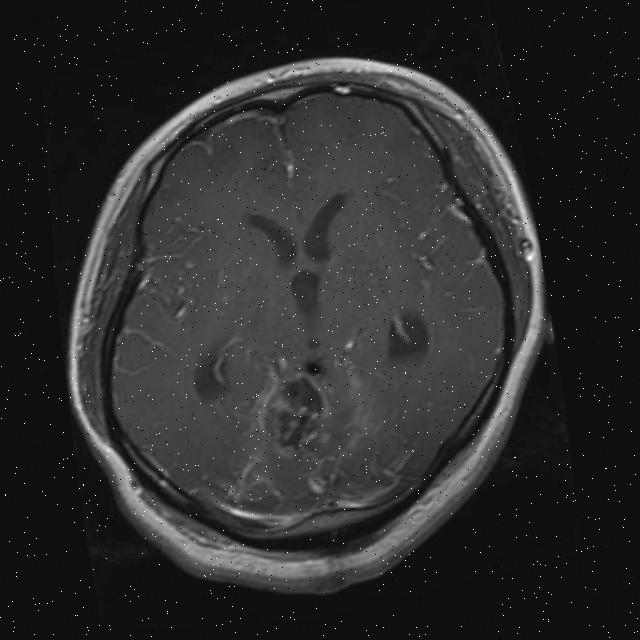Glioma: (249, 363, 340, 462)
